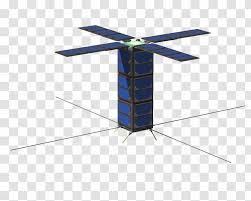antenna: (150, 127, 234, 165), (9, 125, 122, 153), (152, 103, 248, 127), (54, 95, 119, 124)
solar: (131, 49, 155, 127), (116, 45, 134, 130), (136, 42, 203, 64), (53, 40, 130, 59), (140, 26, 213, 44), (77, 23, 135, 43)
